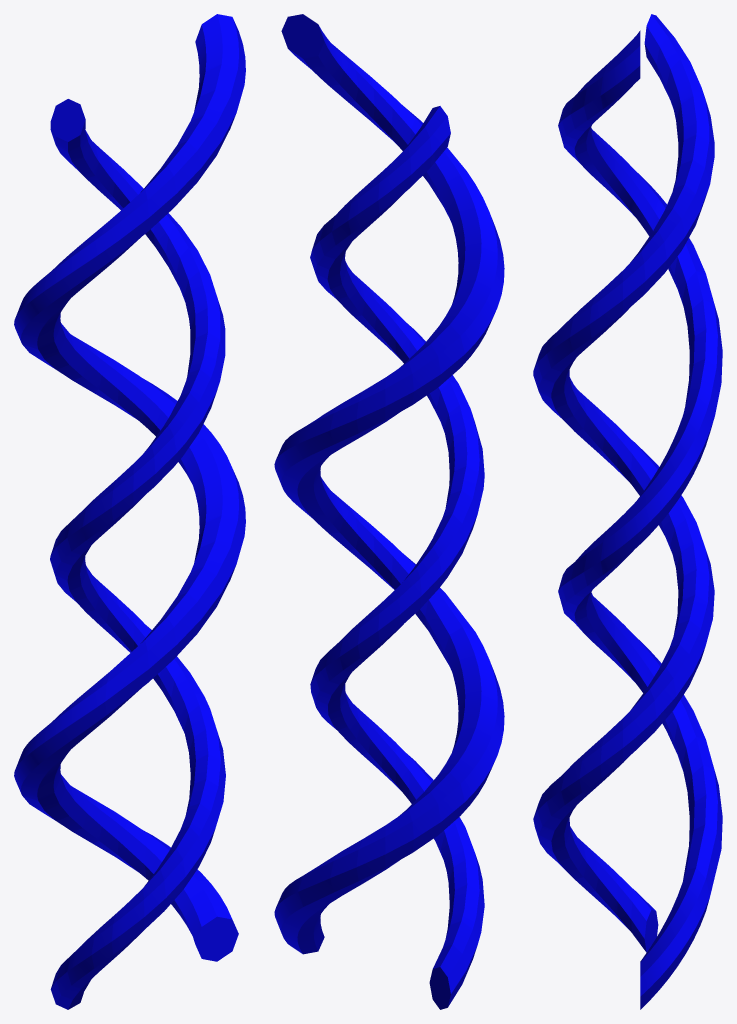
The model's file is DNA.obj.
3 views of the same model, side by side, from view 1: azimuth 30°, elevation 25°; view 2: azimuth 150°, elevation 25°; view 3: azimuth 270°, elevation 25° (orthographic). The views are drawn at different scales.
Parts seen in each view (by area): view 1: DNA1:group2 DNA1:pHelix1 DNA1:polySurface1 group3, DNA1:group2 DNA1:pHelix2 DNA1:polySurface1 group3; view 2: DNA1:group2 DNA1:pHelix1 DNA1:polySurface1 group3, DNA1:group2 DNA1:pHelix2 DNA1:polySurface1 group3; view 3: DNA1:group2 DNA1:pHelix2 DNA1:polySurface1 group3, DNA1:group2 DNA1:pHelix1 DNA1:polySurface1 group3.
Boxes of the visible parts, bbox=[...] form: DNA1:group2 DNA1:pHelix1 DNA1:polySurface1 group3: bbox=[14, 14, 245, 961]; DNA1:group2 DNA1:pHelix2 DNA1:polySurface1 group3: bbox=[50, 99, 225, 1009]; DNA1:group2 DNA1:pHelix1 DNA1:polySurface1 group3: bbox=[274, 14, 504, 954]; DNA1:group2 DNA1:pHelix2 DNA1:polySurface1 group3: bbox=[310, 106, 484, 1009]; DNA1:group2 DNA1:pHelix2 DNA1:polySurface1 group3: bbox=[533, 14, 714, 952]; DNA1:group2 DNA1:pHelix1 DNA1:polySurface1 group3: bbox=[558, 30, 722, 1009].
Bounding box in the file's own units: 2.86 × 12.09 × 2.09.
